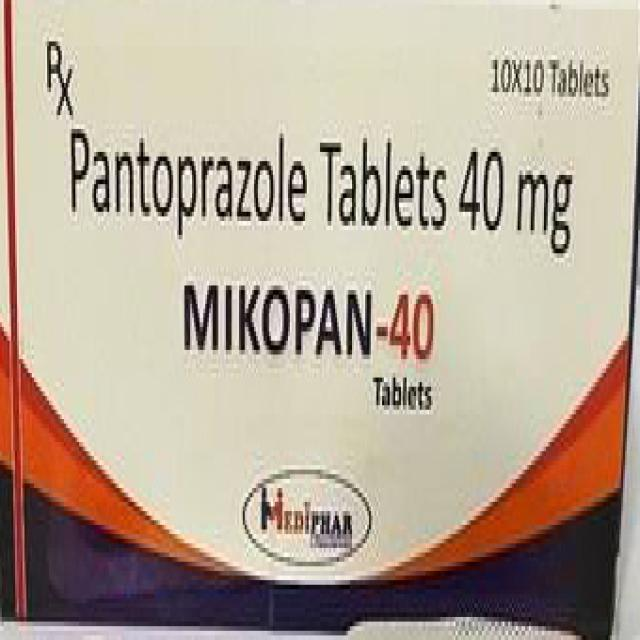drug-name: (182, 274, 435, 366)
